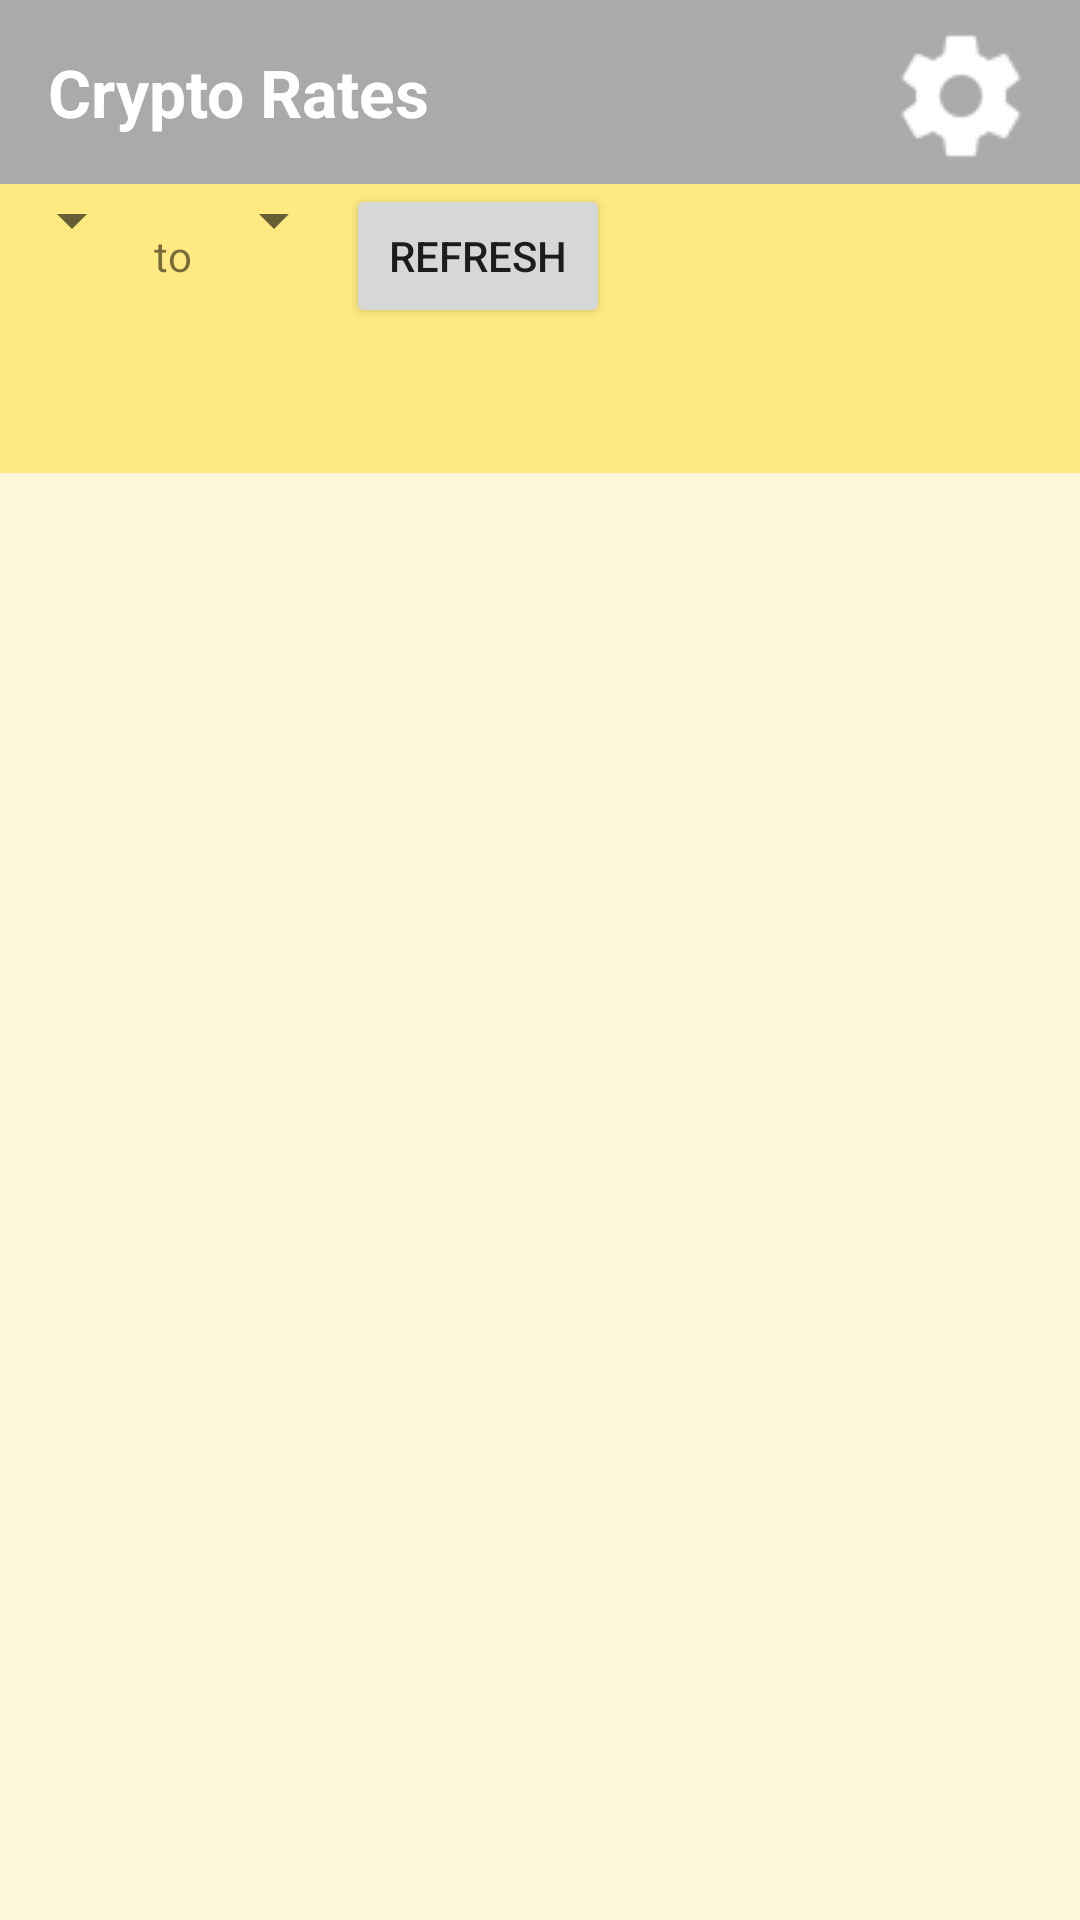

Named icons in this screenshot (1080px x 1920px) and their centers, (x,y):
setting: (961,96)
